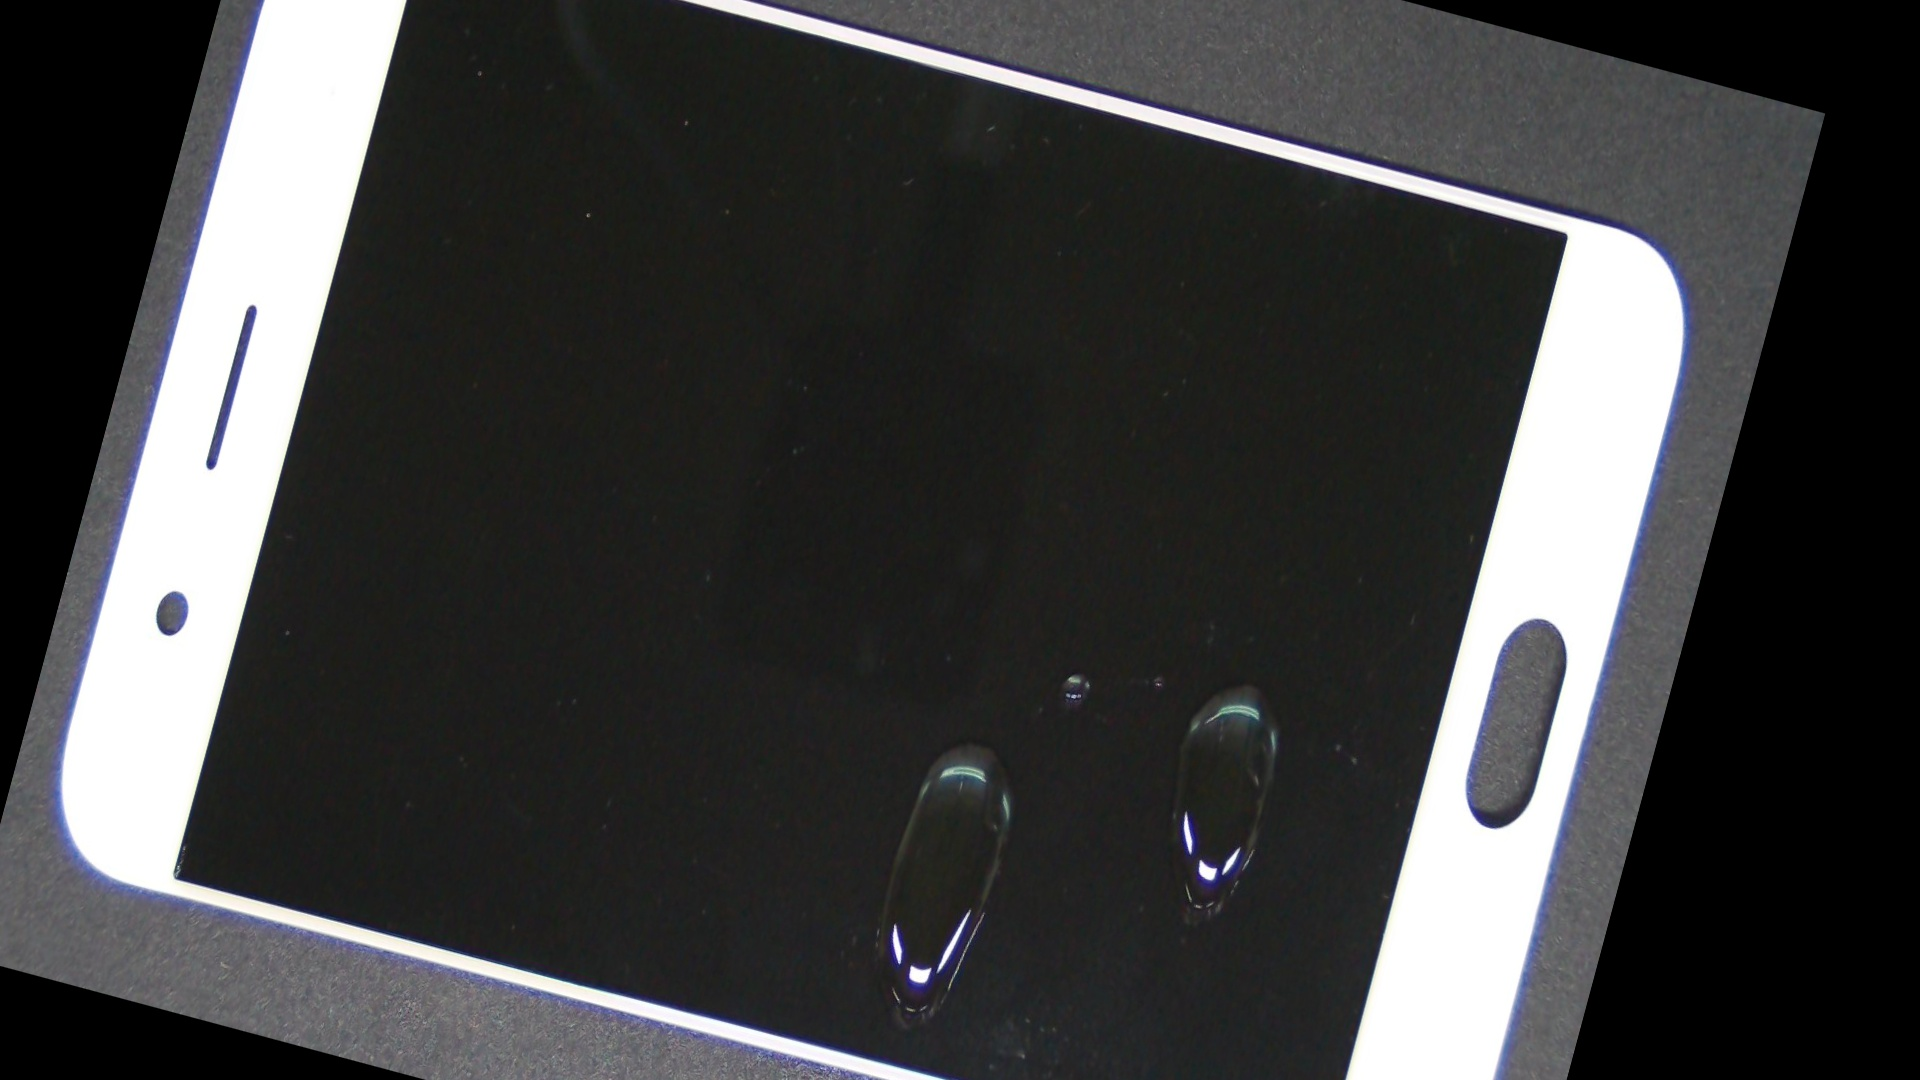oil: (545, 190, 1733, 1080), (501, 189, 1662, 1080), (592, 195, 1734, 1080), (421, 224, 1520, 1080)
